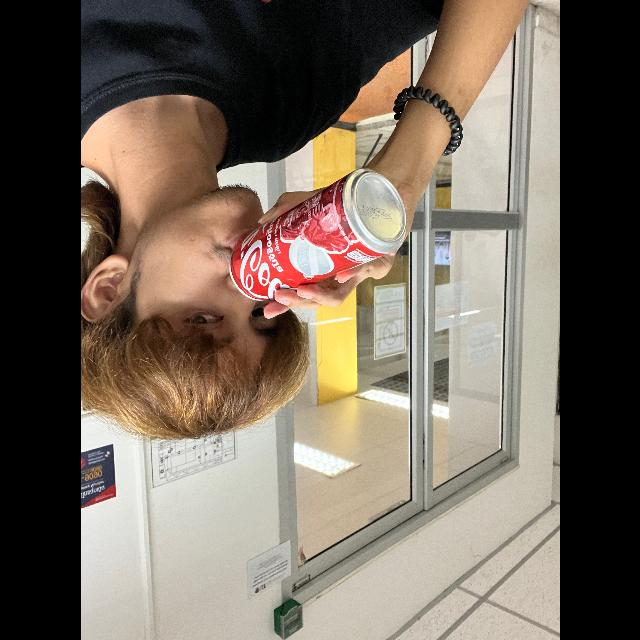can: (220, 162, 414, 314)
